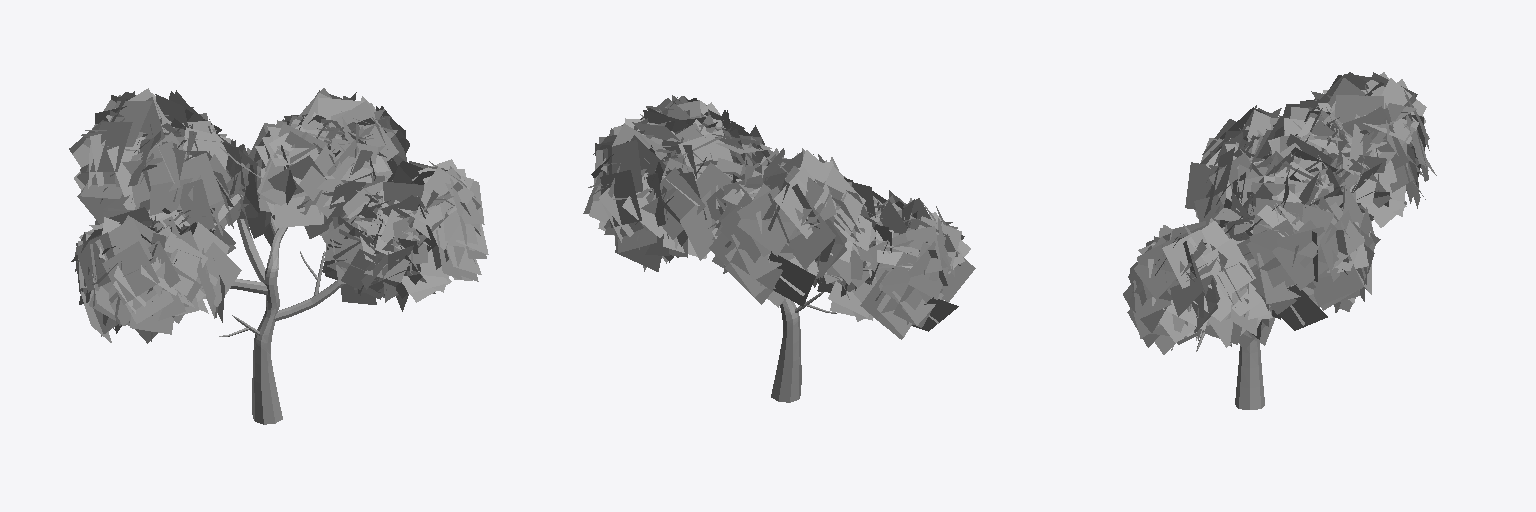
File: MapleTree_3.obj
3 views of the same model, side by side, from view 1: azimuth 30°, elevation 25°; view 2: azimuth 150°, elevation 25°; view 3: azimuth 270°, elevation 25° (orthographic).
Parts seen in each view (by area): view 1: MapleTree_3_Cube.008; view 2: MapleTree_3_Cube.008; view 3: MapleTree_3_Cube.008.
Boxes of the visible parts, <box> form: MapleTree_3_Cube.008: <box>69,88,488,424</box>; MapleTree_3_Cube.008: <box>583,95,975,402</box>; MapleTree_3_Cube.008: <box>1123,72,1436,409</box>.
Size of the model in its own units: 8.98 by 6.99 by 6.61.